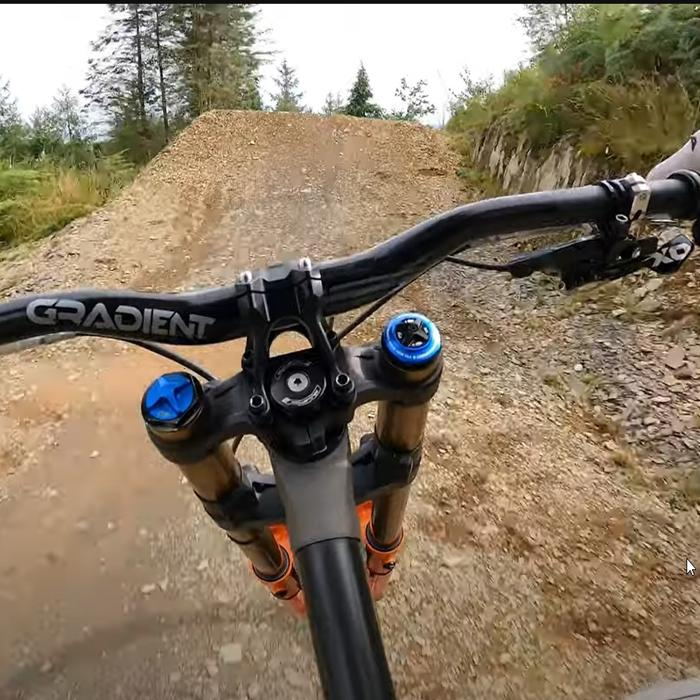turn: (148, 84, 485, 186)
